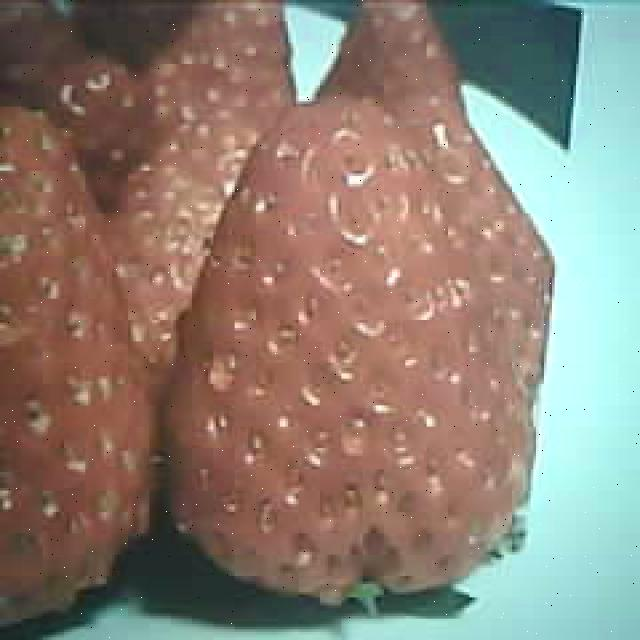ripe: (162, 104, 516, 602)
